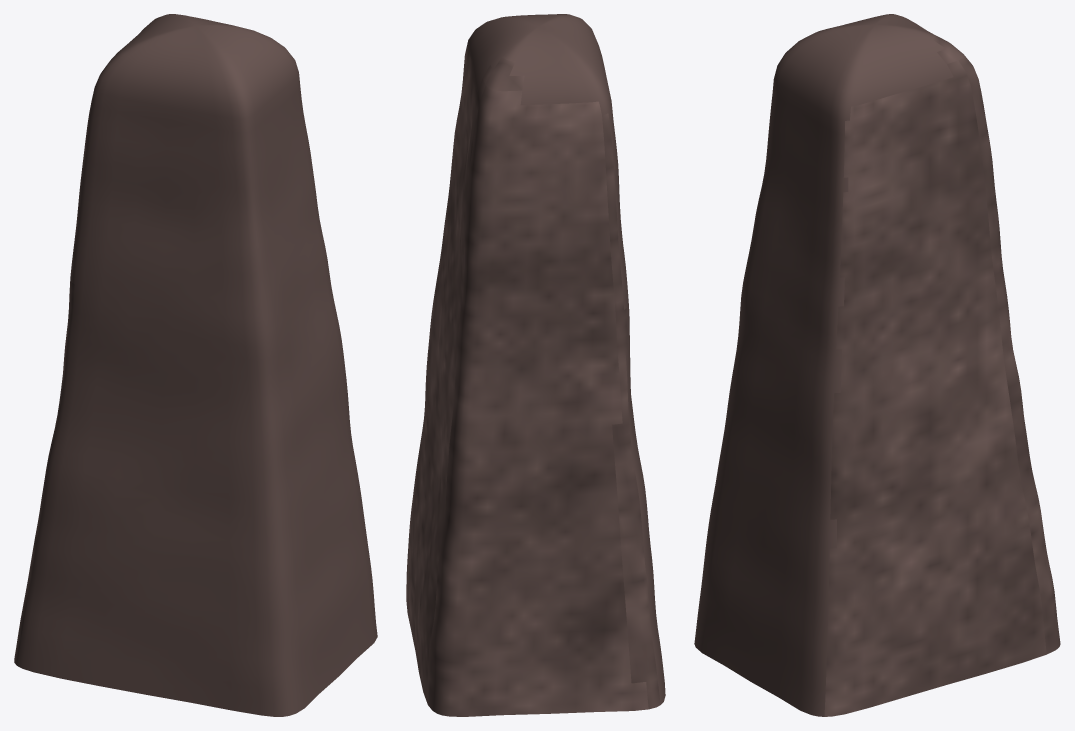
The model's file is TarHenge11.glb.
3 views of the same model, side by side, from view 1: azimuth 30°, elevation 25°; view 2: azimuth 150°, elevation 25°; view 3: azimuth 270°, elevation 25° (orthographic).
Visible parts, largest first — view 1: TarHenge11; view 2: TarHenge11; view 3: TarHenge11.
Part boxes in pixels (left/top/right/bottom): TarHenge11: left=14, top=14, right=377, bottom=716; TarHenge11: left=406, top=14, right=665, bottom=716; TarHenge11: left=694, top=14, right=1060, bottom=716.
Bounding box in the file's own units: 2.3 × 4.52 × 2.42.
Materials: 2 (1 with a texture image).
